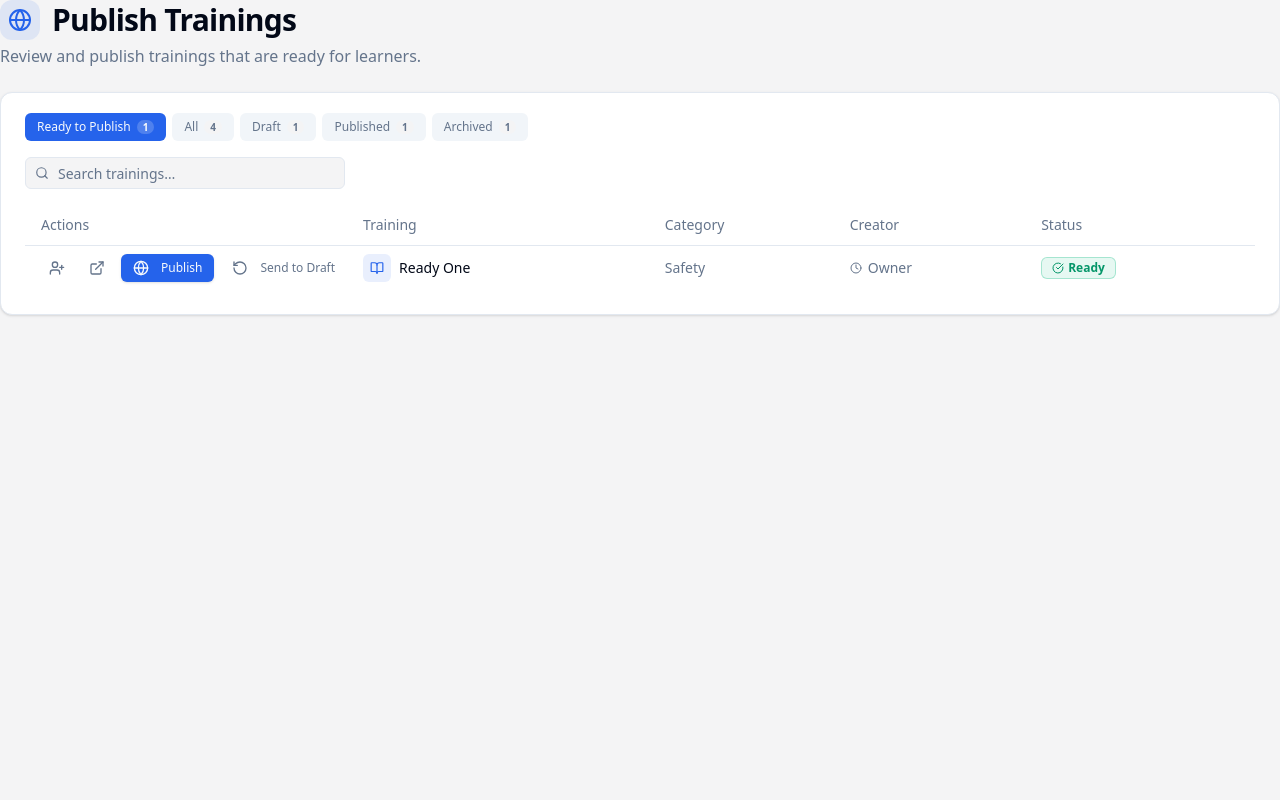
Test: ManagerPublishTrainings › preview button opens the Preview Training dialog with Content + Simulate options
Check: the text "Ready One" is shown, box x1=399 y1=258 x2=470 y2=278
Step 1. Click the button titled "Preview training" → (97, 268), box x1=81 y1=254 x2=113 y2=282
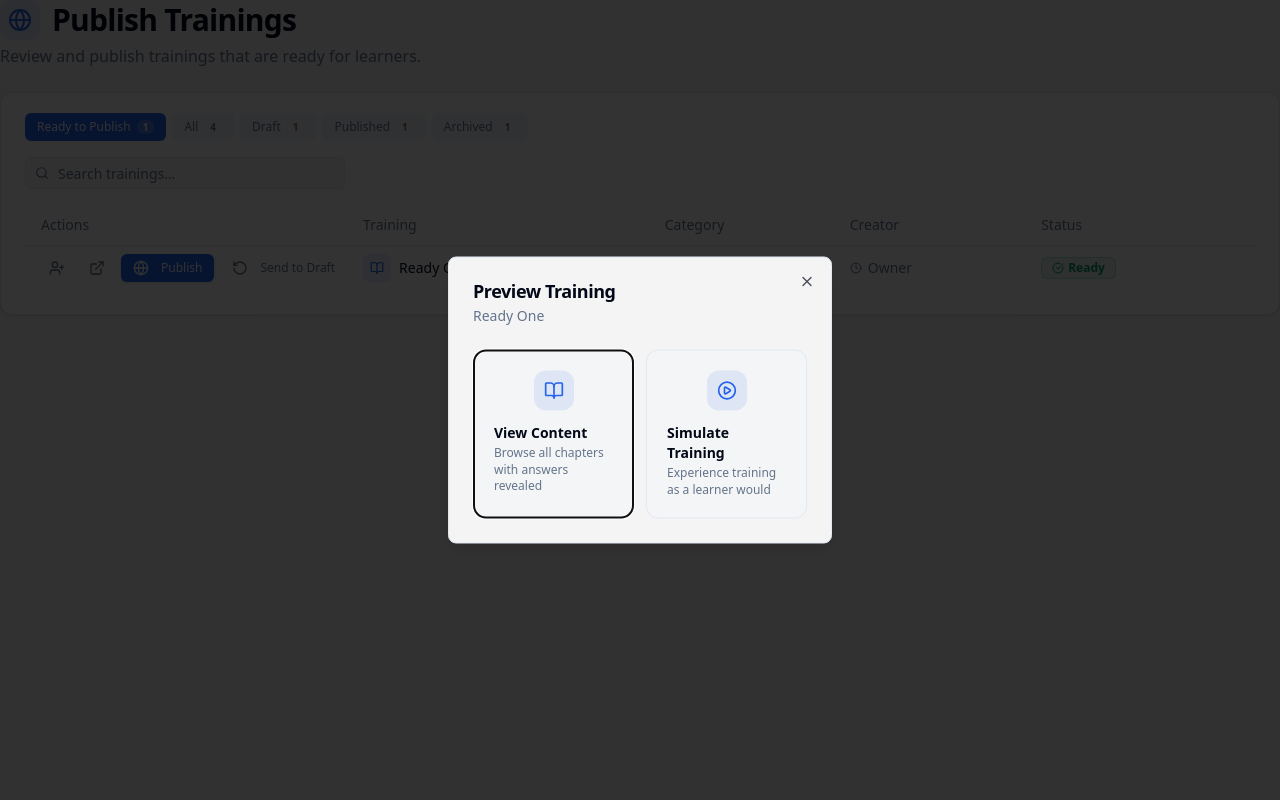
Check: the heading "Preview Training" is shown, box x1=473 y1=278 x2=616 y2=302
Check: the text "View Content" is shown, box x1=494 y1=422 x2=587 y2=442
Check: the text "Simulate Training" is shown, box x1=667 y1=422 x2=729 y2=462
